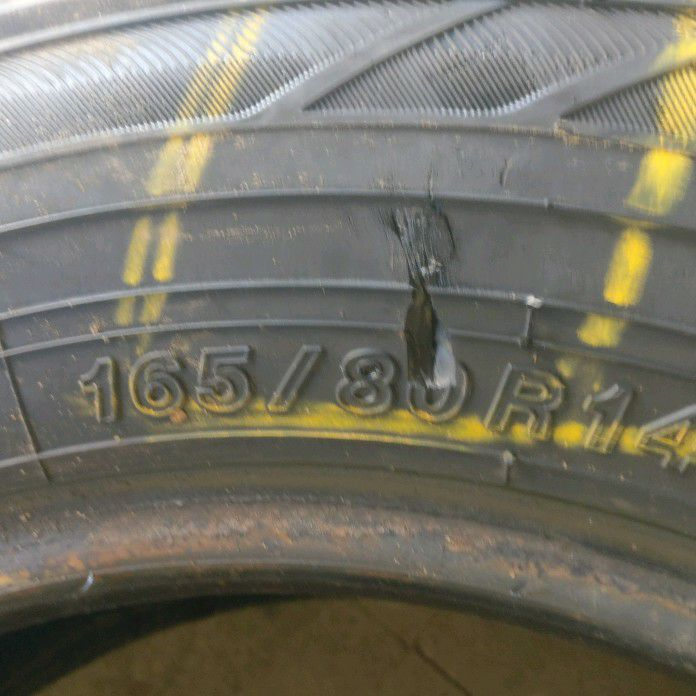cut: (388, 165, 461, 394)
